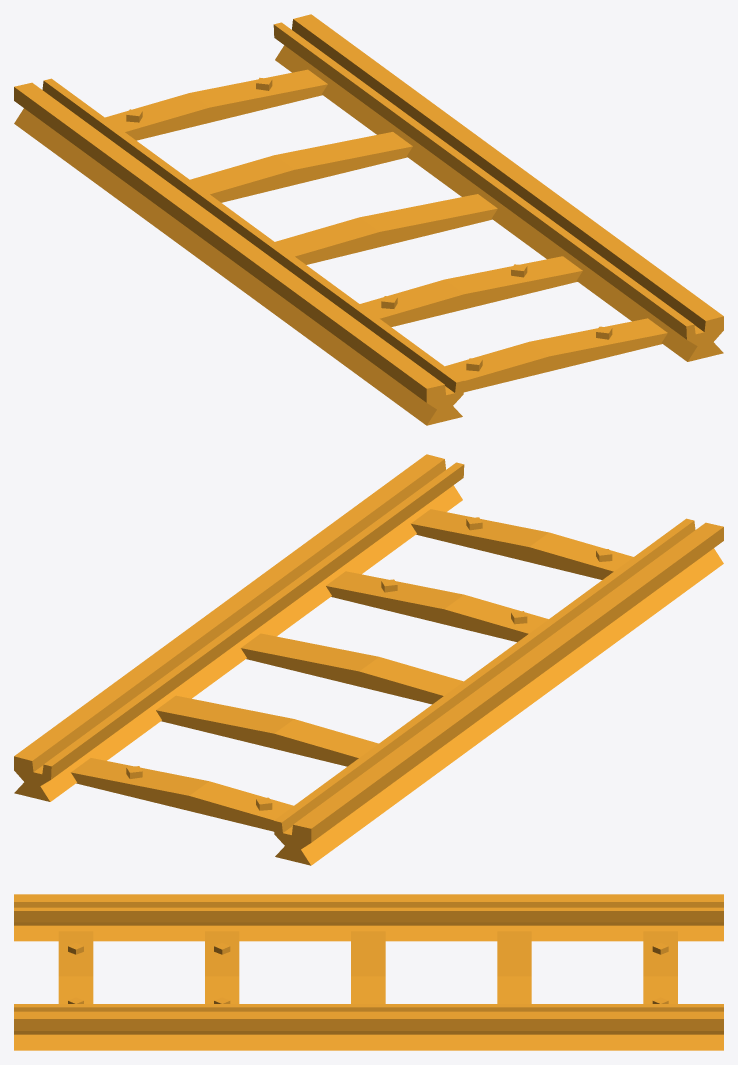
The model's file is SM_Rail_Tram_3m.fbx.
The picture shows the model from 3 angles, top to bottom: view 1: azimuth 30°, elevation 25°; view 2: azimuth 150°, elevation 25°; view 3: azimuth 270°, elevation 25°; orthographic projection. The views are drawn at different scales.
Parts seen in each view (by area): view 1: rail-tram-3m; view 2: rail-tram-3m; view 3: rail-tram-3m.
Boxes of the visible parts, bbox=[...] form: rail-tram-3m: bbox=[14, 14, 723, 425]; rail-tram-3m: bbox=[14, 454, 723, 865]; rail-tram-3m: bbox=[14, 894, 723, 1050].
Bounding box in the file's own units: 1.25 × 0.1529 × 3.
